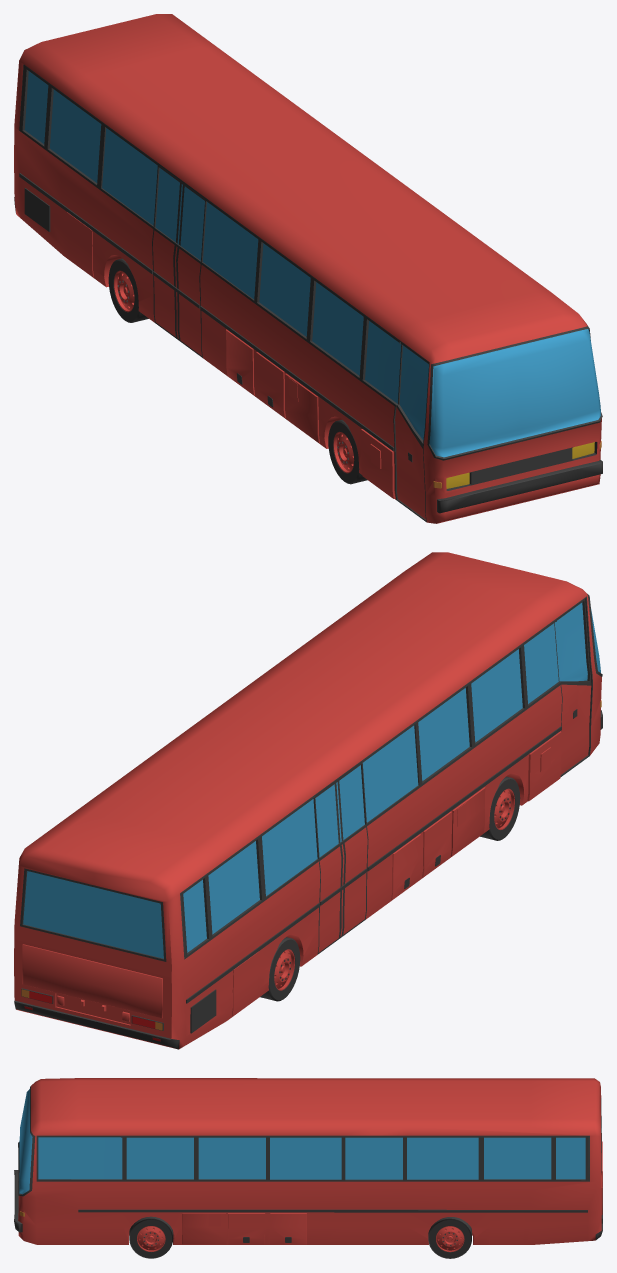
File: bus_lod0.glb
3 renders of one model, top to bottom at view 1: azimuth 30°, elevation 25°; view 2: azimuth 150°, elevation 25°; view 3: azimuth 270°, elevation 25°, orthographic. The views are drawn at different scales.
Parts seen in each view (by area): view 1: veg; view 2: veg; view 3: veg.
Part boxes in pixels (x1,y1,x2,y2): veg: (14, 14, 602, 523); veg: (14, 552, 602, 1049); veg: (14, 1078, 602, 1258).
Bounding box in the file's own units: 2.5 × 2.74 × 11.
